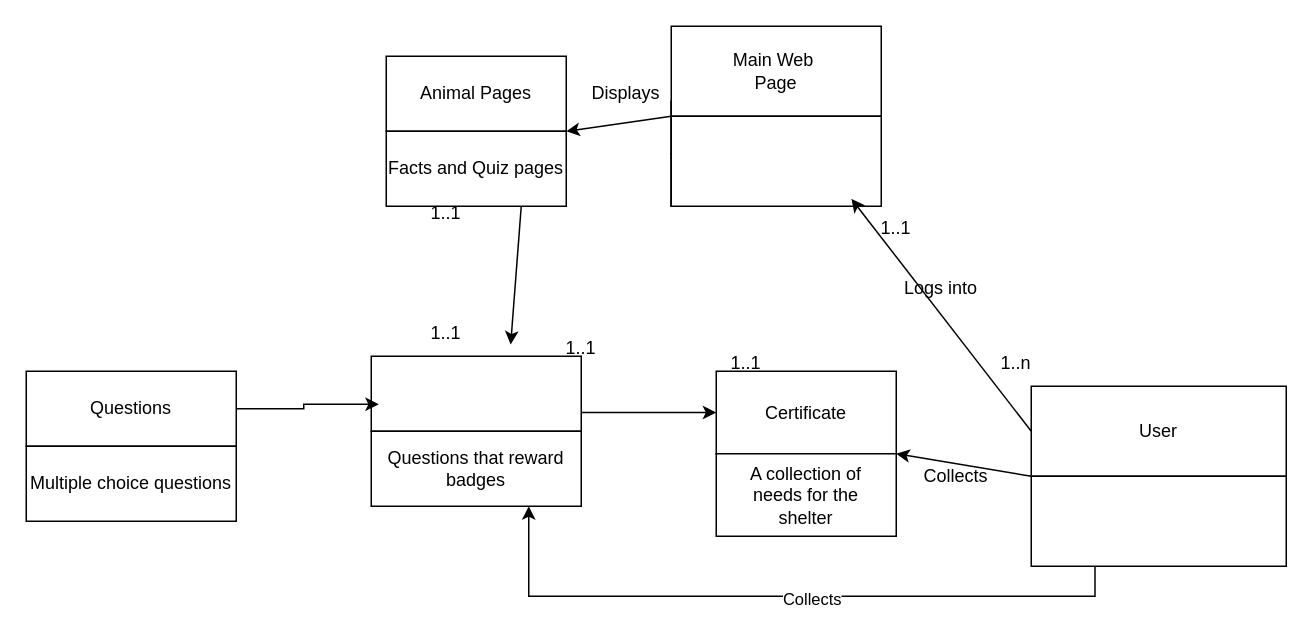
Image size: 1313x635. Some labels were removed from this diagram. The shapes that lost their labels are listed below. From the top down, each one's centre as x and y in pixels, then its label:
the point at 775,160: Page the user interacts with to get to animal pages
the point at 475,393: Quizes
the point at 1158,520: Collects Badges via quizes
